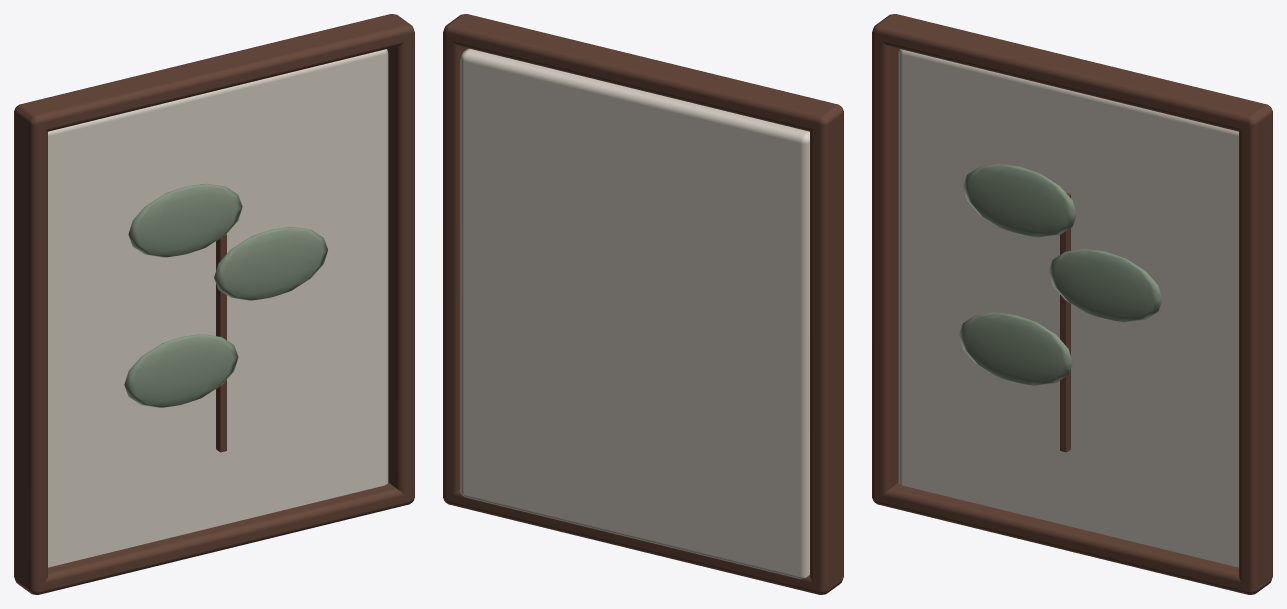
File: suite_art_botanical.glb
3 views of the same model, side by side, from view 1: azimuth 30°, elevation 25°; view 2: azimuth 150°, elevation 25°; view 3: azimuth 330°, elevation 25° (orthographic).
Bounding box in the file's own units: 0.945 × 1.12 × 0.1125.
